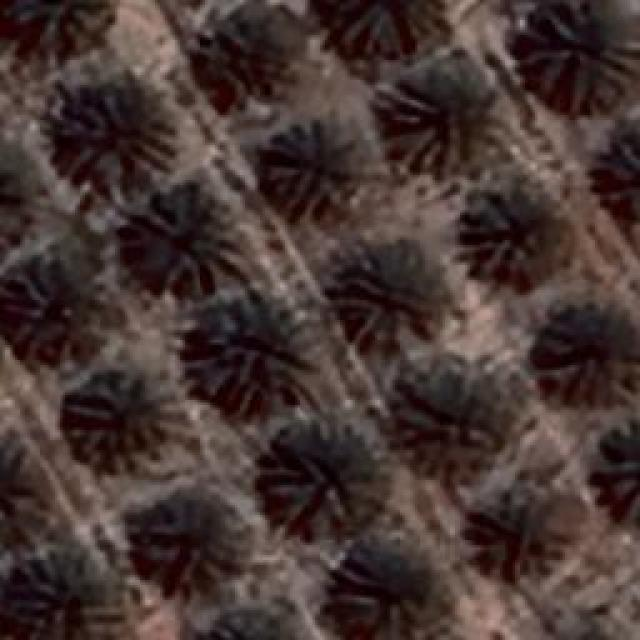PalmTree: (19, 105, 614, 491), (192, 290, 318, 412), (375, 62, 503, 176), (0, 244, 100, 366), (62, 375, 190, 470), (530, 0, 638, 110), (340, 240, 450, 342), (135, 188, 245, 290), (332, 545, 448, 640), (399, 361, 509, 461), (262, 428, 380, 520), (536, 302, 636, 406), (65, 84, 173, 178), (260, 118, 360, 215), (136, 494, 242, 584), (0, 556, 108, 639), (460, 190, 555, 280), (468, 496, 560, 582), (202, 8, 298, 90), (330, 0, 442, 55), (12, 0, 112, 48), (592, 420, 638, 515), (0, 140, 30, 255), (195, 610, 306, 640)
